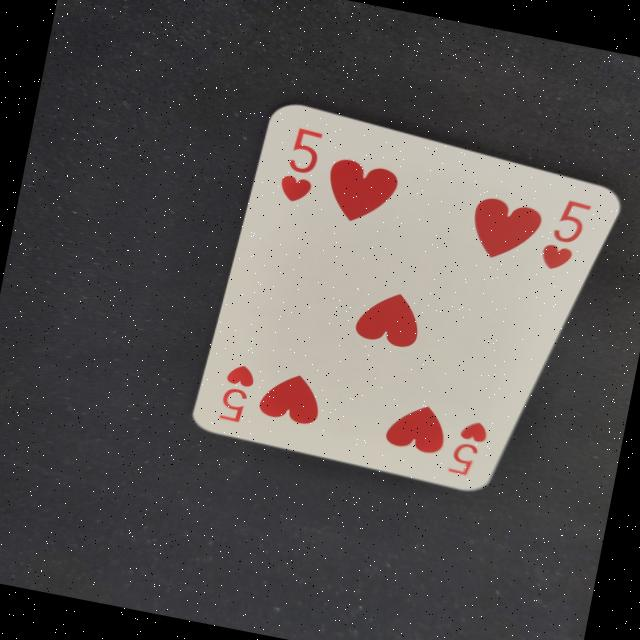5h: (528, 190, 602, 280), (270, 120, 334, 212), (439, 409, 496, 482), (210, 355, 264, 431)
